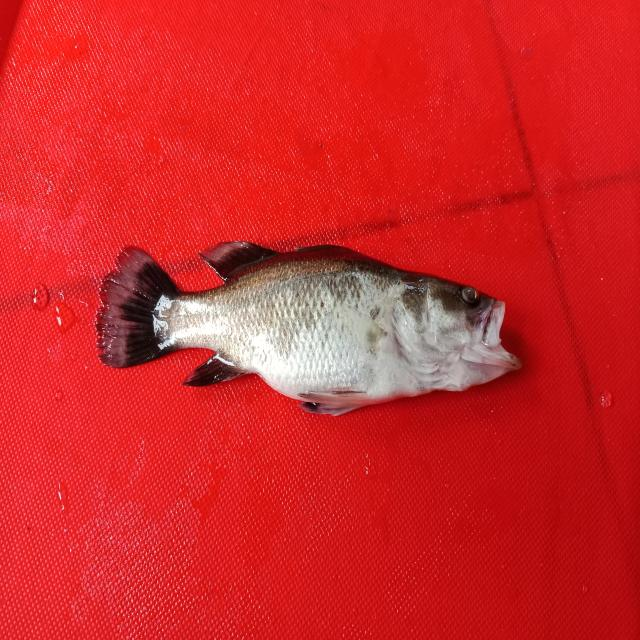ikan: (88, 200, 543, 415)
